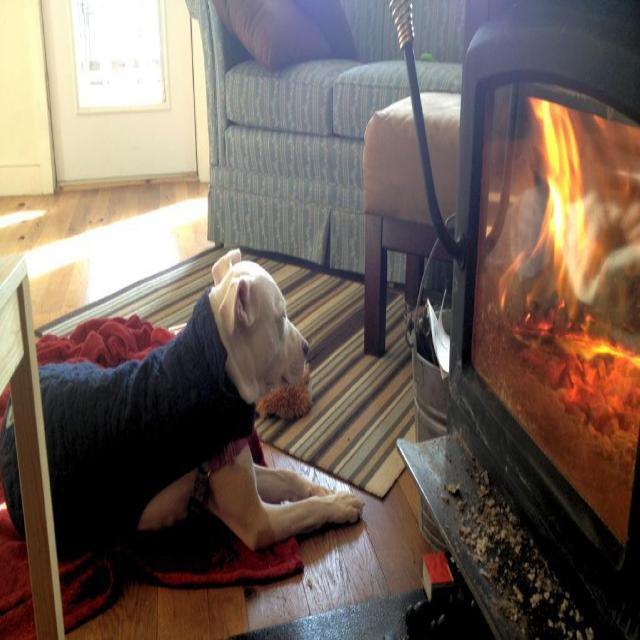Fire: (507, 95, 639, 412)
